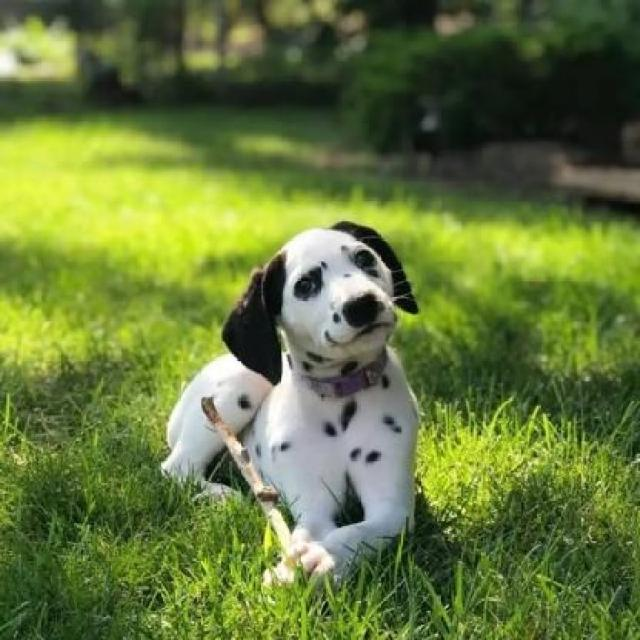animals: (157, 218, 506, 587)
